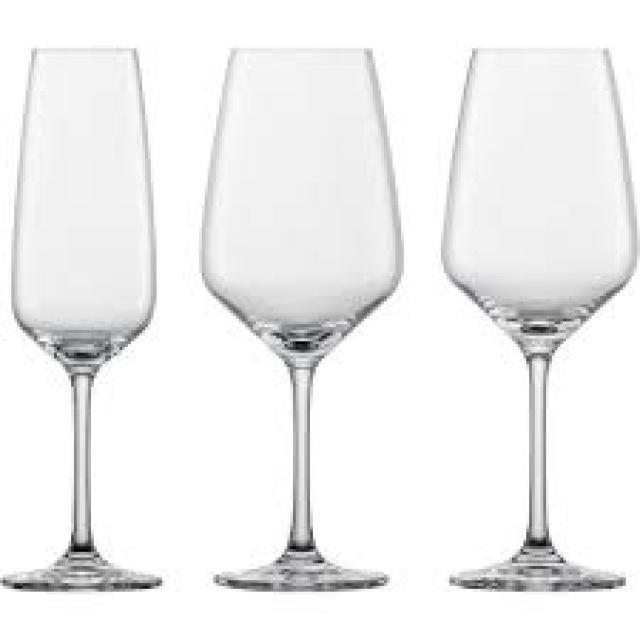Glass: (200, 38, 402, 590), (443, 36, 631, 594), (12, 43, 158, 590)
